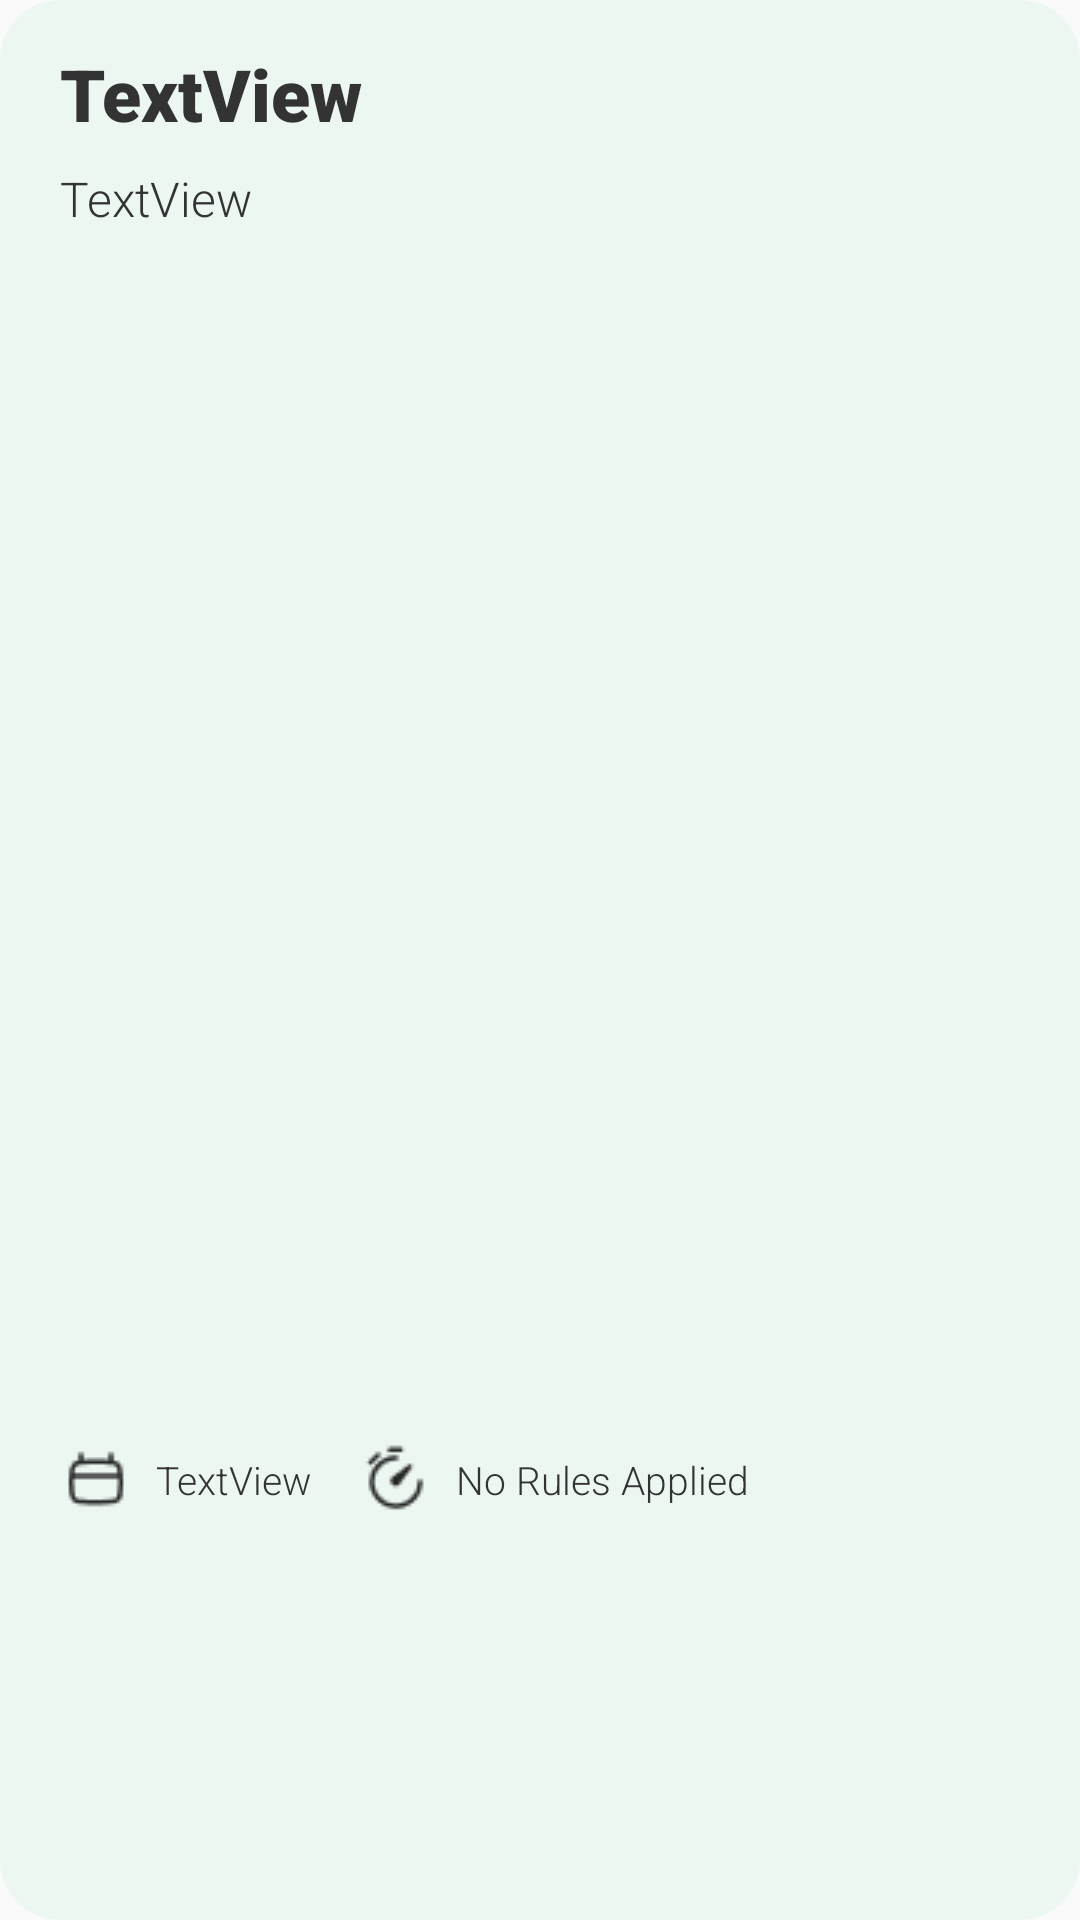

Where icons sit on this 1080 × 1920 app screen, as bbox=[x1, y1, x2, y2]:
calendar: bbox=[68, 1451, 124, 1507]
timer: bbox=[366, 1445, 424, 1510]
